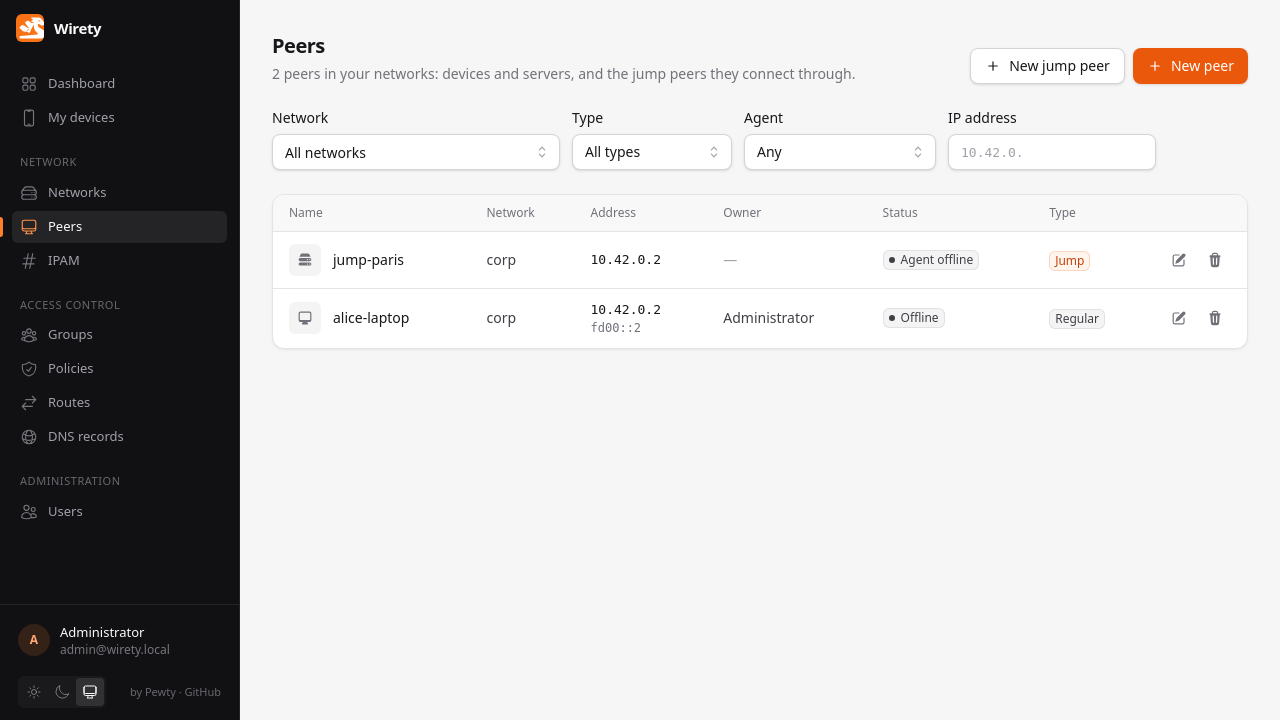
Test: Peer details › shows the configuration and status of a peer
This screenshot has width=1280, height=720.
Click the text "alice-laptop" at (371, 318), box [333,308,409,328]
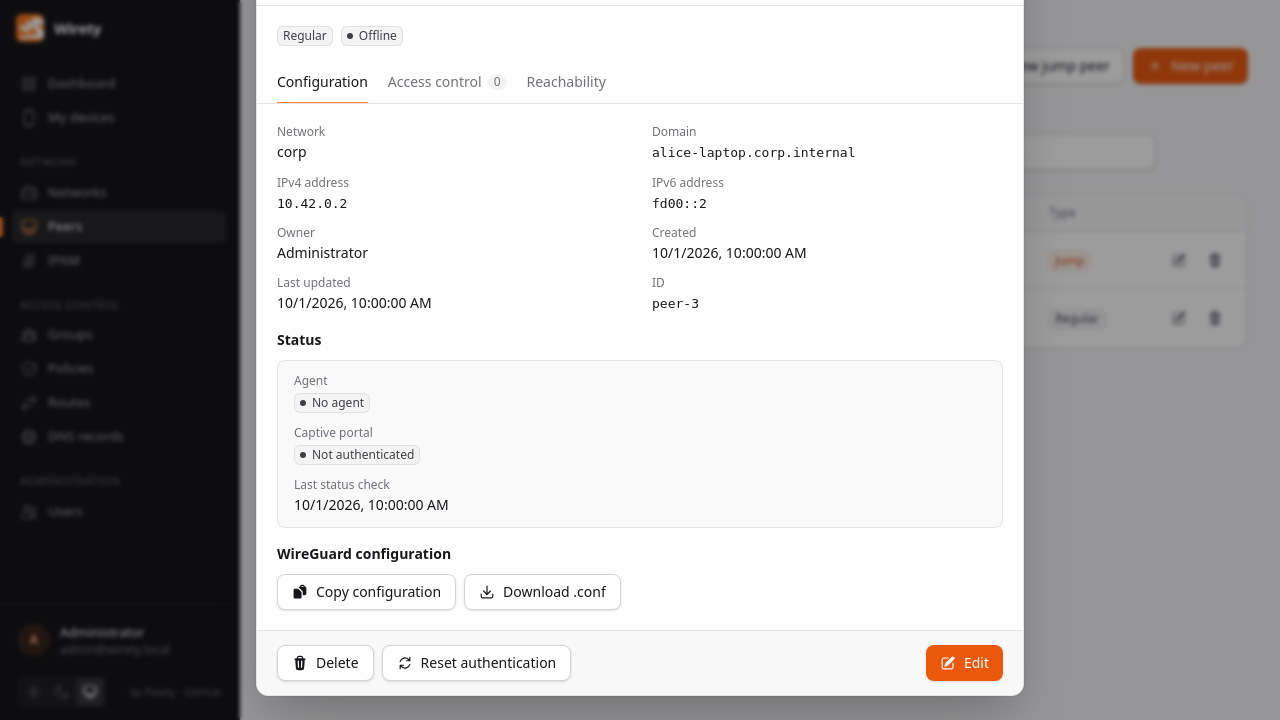
Check: the tab "Configuration" is shown, box [277,62,368,104]
Check: the text "alice-laptop.corp.internal" is shown, box [652,145,856,160]
Check: the text "10.42.0.2" is shown, box [277,196,348,211]
